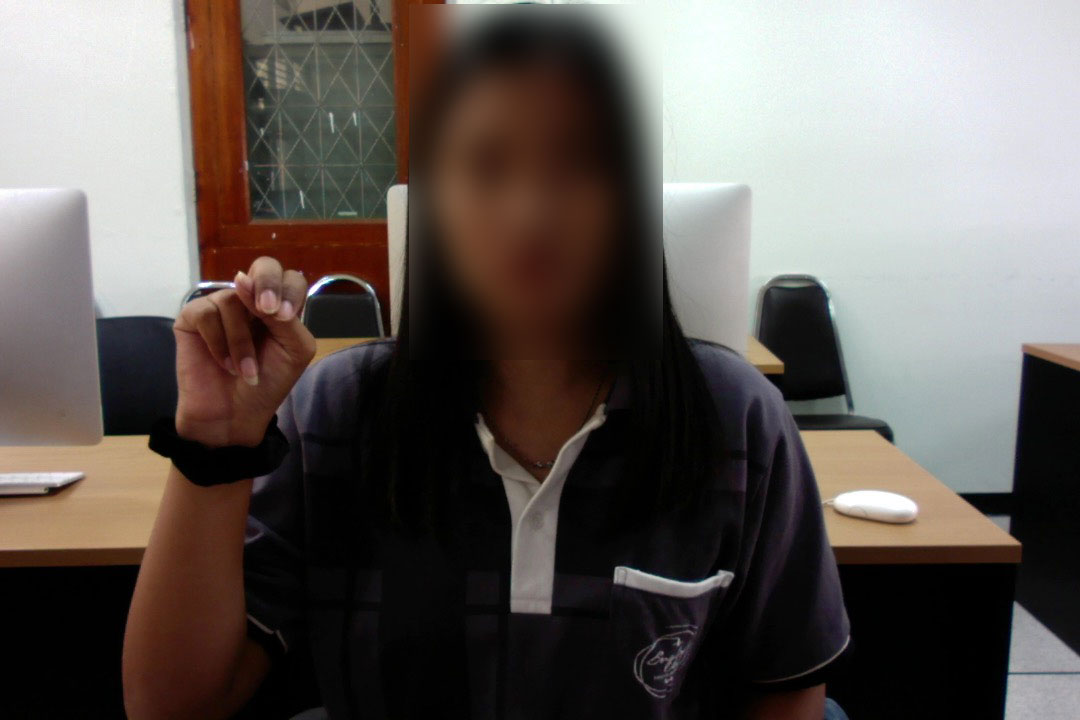nor: (163, 247, 325, 441)
